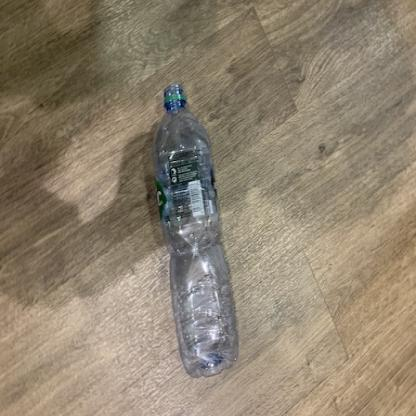trash: (148, 81, 242, 379)
